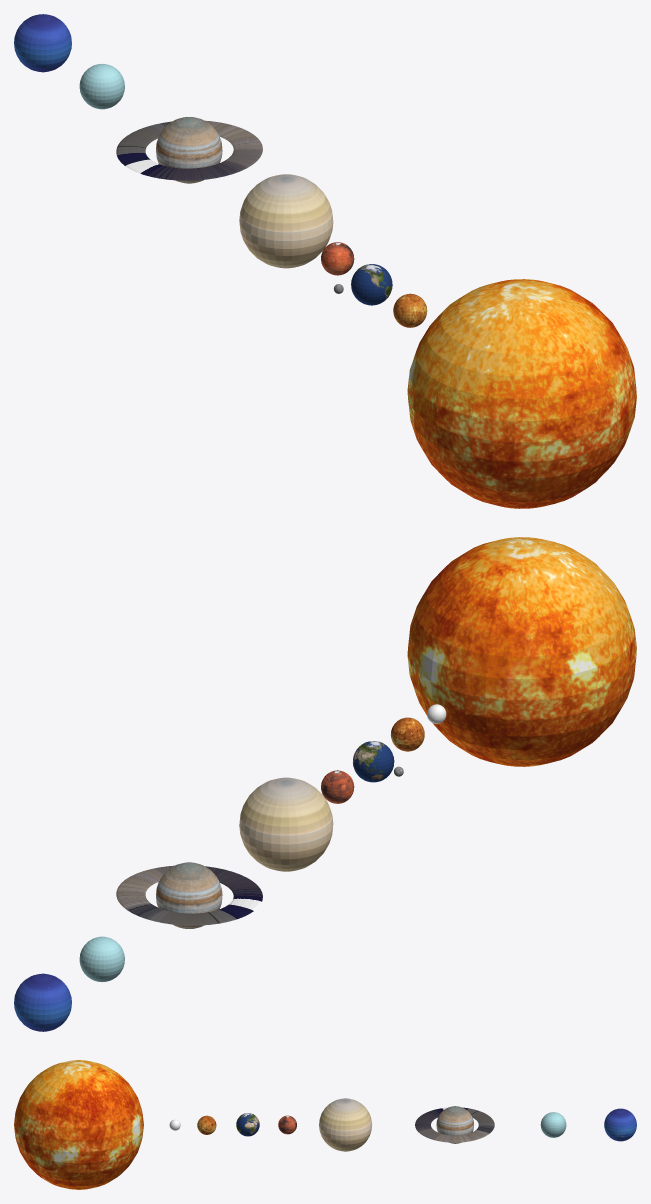
The model's file is sistema.obj.
3 views of the same model, one above another, from view 1: azimuth 30°, elevation 25°; view 2: azimuth 150°, elevation 25°; view 3: azimuth 270°, elevation 25° (orthographic). The views are drawn at different scales.
Parts seen in each view (by area): view 1: Sphere_Material.001_0, Sphere.006_Material.007_0, Torus_Material.010_0, Sphere.007_Material.008_0, Sphere.009_Material.011_0, Sphere.008_Material.009_0, Sphere.003_Material.004_0, Sphere.002_Material.003_0, Sphere.005_Material.006_0; view 2: Sphere_Material.001_0, Sphere.006_Material.007_0, Torus_Material.010_0, Sphere.007_Material.008_0, Sphere.009_Material.011_0, Sphere.008_Material.009_0, Sphere.003_Material.004_0, Sphere.002_Material.003_0, Sphere.005_Material.006_0; view 3: Sphere_Material.001_0, Sphere.006_Material.007_0, Torus_Material.010_0, Sphere.007_Material.008_0, Sphere.009_Material.011_0, Sphere.008_Material.009_0, Sphere.003_Material.004_0, Sphere.002_Material.003_0, Sphere.005_Material.006_0.
Boxes of the visible parts, <box> form: Sphere_Material.001_0: <box>407,279,636,508</box>; Sphere.006_Material.007_0: <box>239,174,333,268</box>; Torus_Material.010_0: <box>116,120,262,180</box>; Sphere.007_Material.008_0: <box>156,117,222,183</box>; Sphere.009_Material.011_0: <box>14,14,71,72</box>; Sphere.008_Material.009_0: <box>79,63,124,109</box>; Sphere.003_Material.004_0: <box>351,264,392,305</box>; Sphere.002_Material.003_0: <box>393,293,427,327</box>; Sphere.005_Material.006_0: <box>321,242,354,275</box>; Sphere_Material.001_0: <box>407,537,636,766</box>; Sphere.006_Material.007_0: <box>239,777,333,871</box>; Torus_Material.010_0: <box>116,865,262,925</box>; Sphere.007_Material.008_0: <box>156,862,222,928</box>; Sphere.009_Material.011_0: <box>14,973,71,1031</box>; Sphere.008_Material.009_0: <box>79,936,124,982</box>; Sphere.003_Material.004_0: <box>352,741,394,782</box>; Sphere.002_Material.003_0: <box>391,717,424,751</box>; Sphere.005_Material.006_0: <box>321,770,354,803</box>; Sphere_Material.001_0: <box>14,1060,143,1189</box>; Sphere.006_Material.007_0: <box>319,1098,371,1151</box>; Torus_Material.010_0: <box>415,1107,494,1142</box>; Sphere.007_Material.008_0: <box>436,1106,473,1143</box>; Sphere.009_Material.011_0: <box>604,1108,636,1141</box>; Sphere.008_Material.009_0: <box>540,1112,566,1137</box>; Sphere.003_Material.004_0: <box>236,1113,259,1136</box>; Sphere.002_Material.003_0: <box>197,1115,216,1134</box>; Sphere.005_Material.006_0: <box>278,1115,296,1134</box>.
Bounding box in the file's own units: 8.32 × 8.32 × 39.87.
